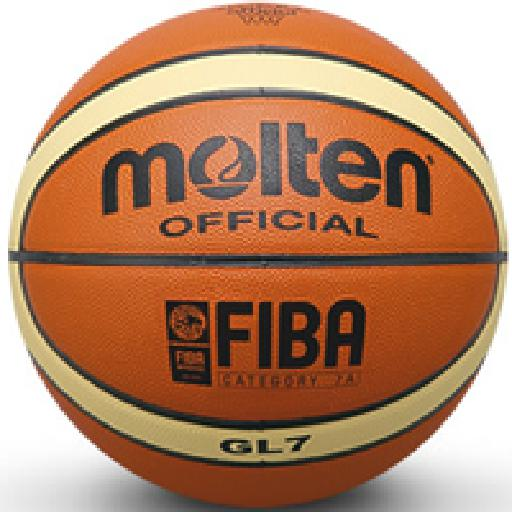ball: (5, 4, 512, 505)
